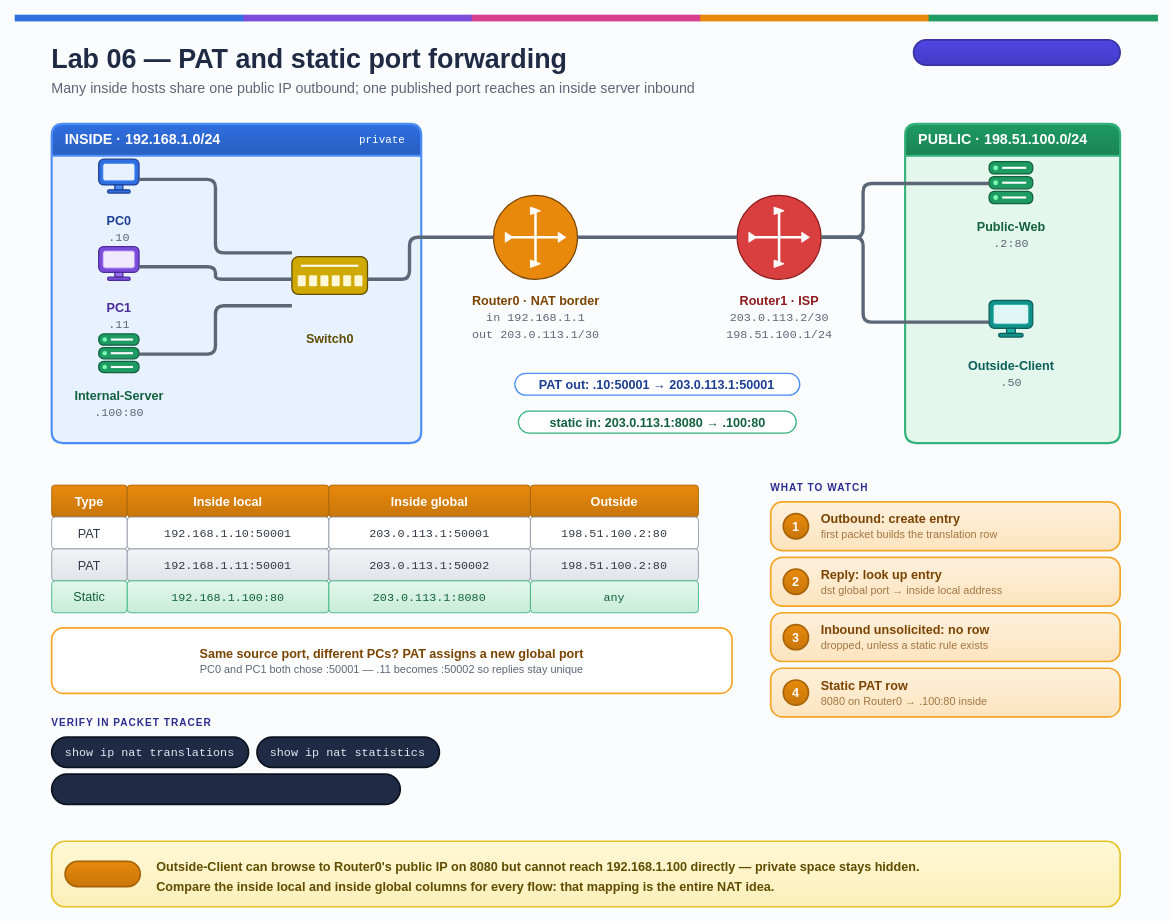
The diagram is 1172 pixels wide and 921 high, and some of its shapes have lost their labels. The shapes that lost their labels are listed below. From the top down, each one's centre as x and y in pixels, then its label:
At pixel 1016 52: "LAB 06 · PACKET TRACER LAB".
At pixel 225 789: "http://203.0.113.1:8080 (from Outside-Client)".
At pixel 102 873: "OBSERVE".
